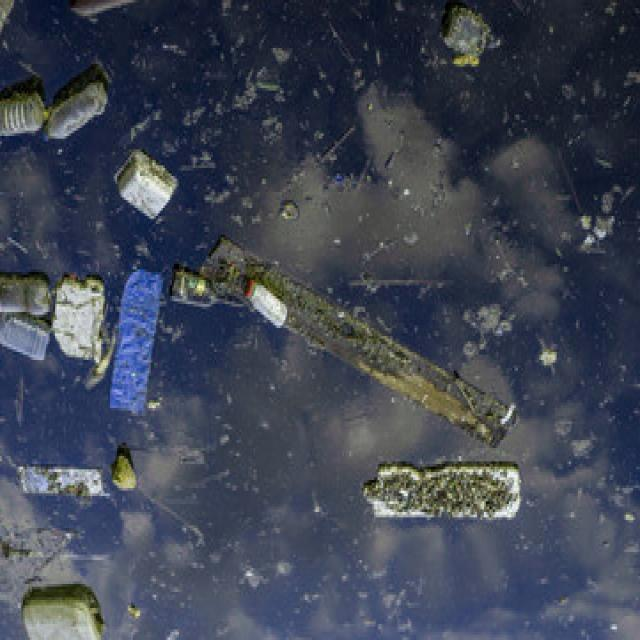Metal: (242, 277, 287, 333)
Plastic: (106, 152, 181, 224), (39, 78, 111, 148), (16, 590, 110, 640), (0, 265, 56, 322), (0, 78, 46, 146), (0, 317, 51, 364)
Trash: (368, 461, 522, 527), (113, 264, 162, 420), (58, 265, 107, 367), (163, 265, 257, 312), (439, 10, 501, 70), (20, 466, 105, 493)
